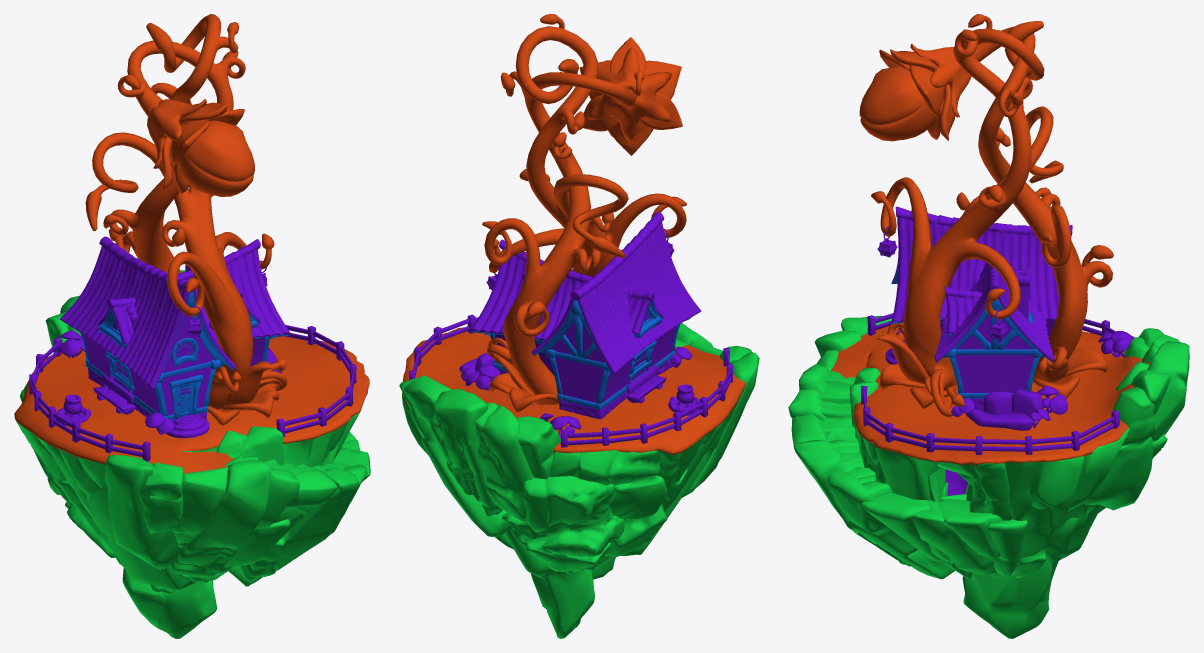
3 renders of one model, left to right at view 1: azimuth 30°, elevation 25°; view 2: azimuth 150°, elevation 25°; view 3: azimuth 270°, elevation 25°, orthographic. The views are drawn at different scales.
Visible parts, largest first — view 1: field_low, flover_01_low, roof_1_low, flover_12_low, stone_big_08_low, stone_big_15_low, flover_13_low, stone_big_11_low, things_15, stone_big_19_low, stone_big_18_low, stone_big_21_low (+22 smaller); view 2: roof_1_low, flover_12_low, field_low, flover_01_low, stone_big_30_low, stone_big_16_low, stone_big_09_low, things_15, stone_big_18_low, stone_big_17_low, flover_16_low, stone_big_42_low (+17 smaller); view 3: flover_01_low, field_low, flover_12_low, roof_1_low, stone_big_18_low, stone_big_06_low, stone_big_42_low, things_15, flover_13_low, stone_big_24_low, stone_big_38_low, stone_big_20_low (+20 smaller).
Boxes of the visible parts, box(x1,y1,x2,y2) form: field_low: box(14, 336, 369, 473); flover_01_low: box(85, 14, 287, 393); roof_1_low: box(60, 236, 291, 389); flover_12_low: box(103, 40, 245, 273); stone_big_08_low: box(171, 460, 270, 583); stone_big_15_low: box(104, 455, 180, 569); flover_13_low: box(179, 120, 254, 196); stone_big_11_low: box(239, 468, 360, 580); things_15: box(83, 264, 265, 415); stone_big_19_low: box(56, 448, 195, 589); stone_big_18_low: box(122, 567, 216, 638); stone_big_21_low: box(171, 467, 228, 547); roof_1_low: box(470, 212, 701, 374); flover_12_low: box(482, 70, 644, 395); field_low: box(402, 327, 746, 455); flover_01_low: box(489, 14, 686, 276); stone_big_30_low: box(502, 476, 624, 573); stone_big_16_low: box(430, 389, 502, 516); stone_big_09_low: box(475, 402, 533, 522); things_15: box(494, 272, 677, 402); stone_big_18_low: box(504, 529, 594, 638); stone_big_17_low: box(607, 450, 666, 519); flover_16_low: box(587, 47, 671, 142); stone_big_42_low: box(399, 378, 512, 536); flover_01_low: box(871, 21, 1063, 416); field_low: box(831, 326, 1150, 464); flover_12_low: box(968, 14, 1113, 376); roof_1_low: box(891, 206, 1072, 362); stone_big_18_low: box(962, 504, 1101, 638); stone_big_06_low: box(989, 456, 1084, 577); stone_big_42_low: box(1085, 387, 1155, 510); things_15: box(940, 269, 1055, 392); flover_13_low: box(859, 66, 936, 141); stone_big_24_low: box(828, 470, 954, 579); stone_big_38_low: box(819, 371, 891, 498); stone_big_20_low: box(913, 500, 994, 578).
Size of the model in its own units: 1775 by 3381 by 1972.
